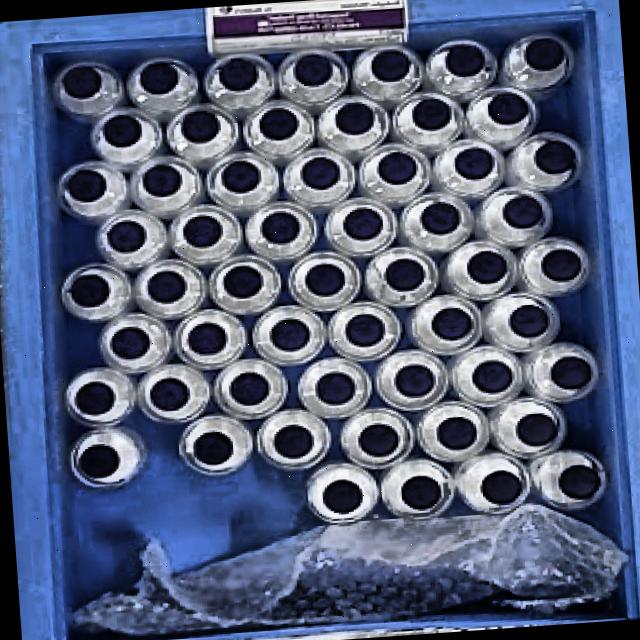vial: (481, 470, 523, 504), (222, 265, 263, 299), (503, 194, 543, 228), (534, 140, 575, 173), (559, 465, 600, 498), (102, 114, 142, 147), (467, 250, 507, 283), (305, 263, 345, 296), (69, 274, 109, 307), (345, 313, 385, 346), (551, 356, 591, 389), (315, 371, 355, 404), (193, 431, 233, 464), (75, 381, 115, 414), (487, 92, 528, 124), (218, 57, 257, 90), (421, 201, 460, 234), (146, 270, 185, 303), (509, 304, 548, 337), (270, 318, 309, 351), (230, 372, 269, 405), (359, 423, 398, 456), (274, 424, 313, 457), (454, 147, 494, 179), (106, 220, 146, 252), (62, 65, 102, 97), (66, 170, 106, 202), (432, 307, 472, 339), (472, 360, 512, 392), (517, 413, 557, 445), (436, 417, 476, 449), (401, 476, 441, 508), (149, 378, 189, 410), (79, 445, 119, 477), (259, 107, 297, 140), (378, 151, 416, 184), (525, 38, 564, 70), (293, 53, 332, 85), (221, 160, 260, 192), (142, 164, 181, 196), (395, 364, 434, 396), (323, 480, 362, 512), (302, 157, 339, 190), (335, 102, 373, 134), (385, 258, 423, 290), (445, 44, 484, 75), (371, 50, 410, 81), (412, 98, 451, 129), (183, 216, 222, 247), (542, 249, 581, 280), (187, 323, 226, 354), (182, 110, 219, 142), (344, 208, 382, 239), (261, 211, 299, 242), (111, 327, 149, 358), (140, 63, 177, 93)
